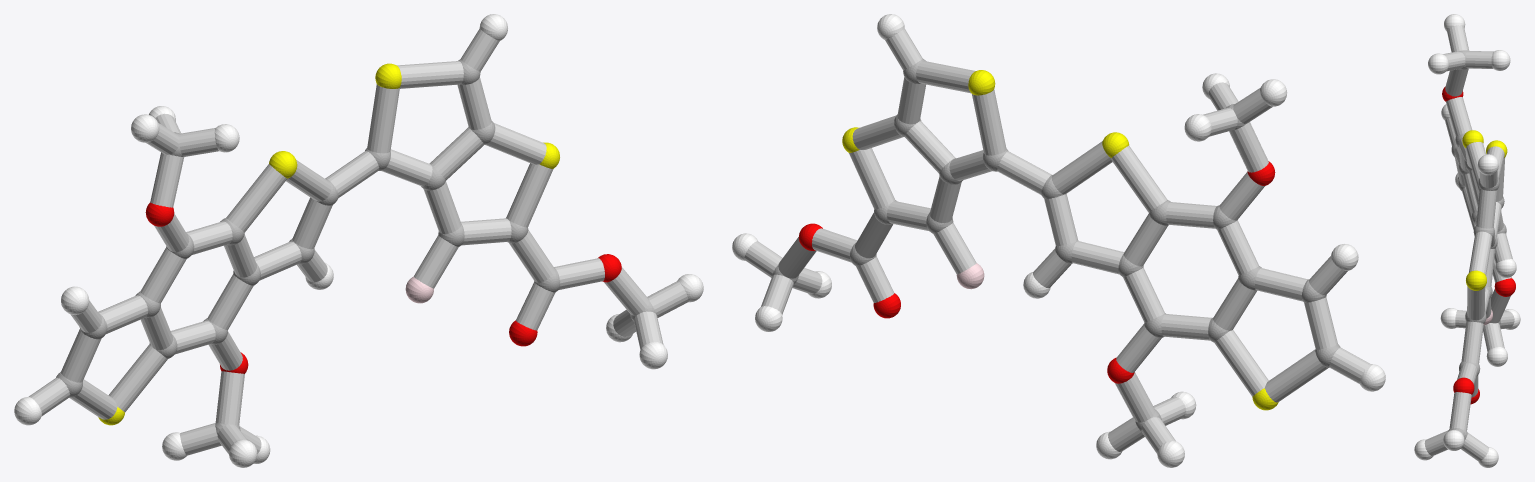
Rendered from color.glb.
3 views of the same model, side by side, from view 1: azimuth 30°, elevation 25°; view 2: azimuth 150°, elevation 25°; view 3: azimuth 270°, elevation 25° (orthographic). The views are drawn at different scales.
Parts seen in each view (by area): view 1: grp15205, grp8689, grp1, grp7241, grp13395; view 2: grp15205, grp8689, grp1, grp7241, grp13395; view 3: grp15205, grp8689, grp1, grp13395, grp7241.
Boxes of the visible parts, x1,y1,x2,y2 form: grp15205: (28, 29, 688, 455); grp8689: (14, 14, 703, 467); grp1: (56, 59, 655, 435); grp7241: (98, 63, 559, 425); grp13395: (145, 202, 621, 373); grp15205: (744, 29, 1369, 453); grp8689: (732, 14, 1385, 467); grp1: (772, 59, 1340, 431); grp7241: (842, 70, 1278, 410); grp13395: (798, 161, 1275, 383); grp15205: (1424, 25, 1514, 461); grp8689: (1414, 14, 1520, 467); grp1: (1448, 50, 1506, 438); grp13395: (1442, 86, 1515, 404); grp7241: (1462, 130, 1507, 290).
Bounding box in the file's own units: 16.44 × 9.32 × 2.99.
